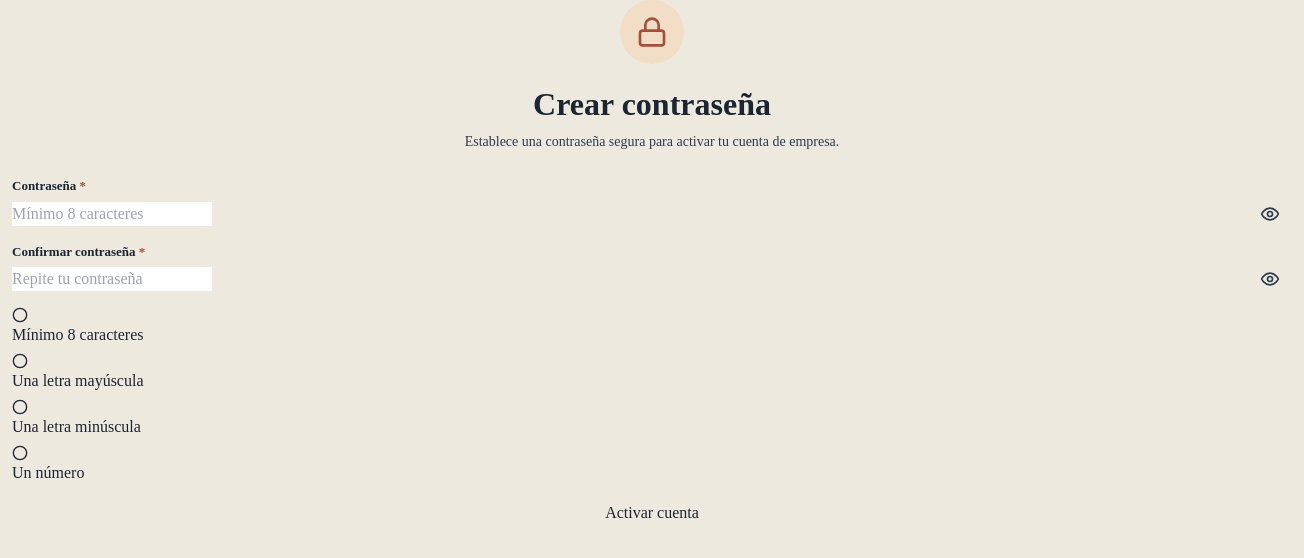
Test: CreatePasswordForm › no envía si las contraseñas no coinciden
The image size is (1304, 558).
Type "Abc12345" into the password field labelled "Contraseña *" at (112, 214), box [12, 202, 212, 226]
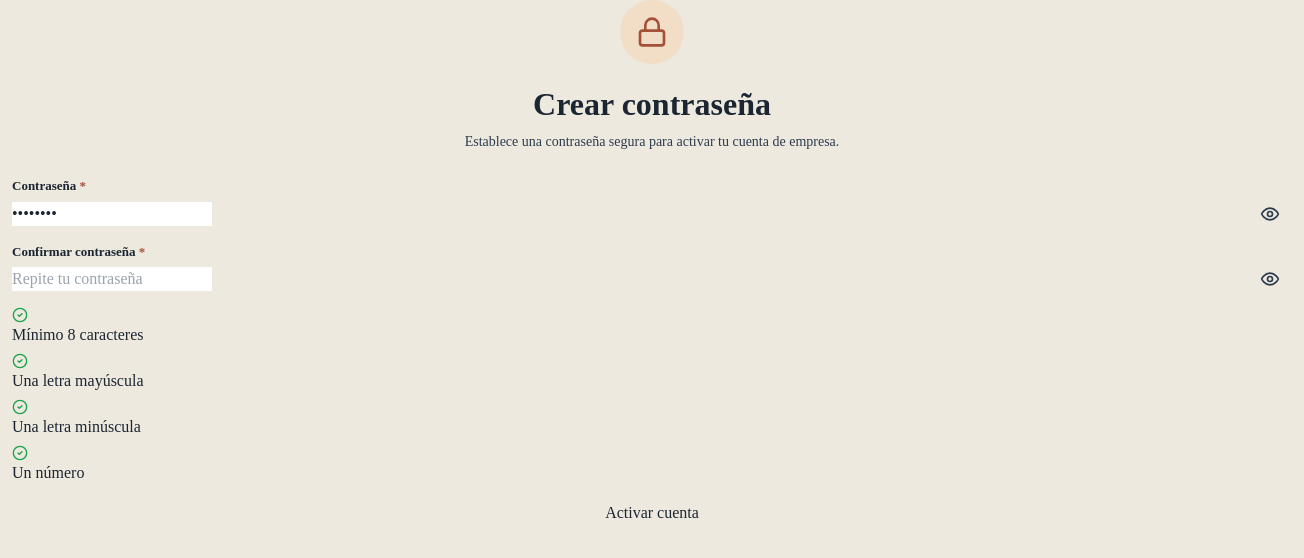
Type "Abc99999" into the password field labelled "Confirmar contraseña *" at (112, 279), box [12, 267, 212, 291]
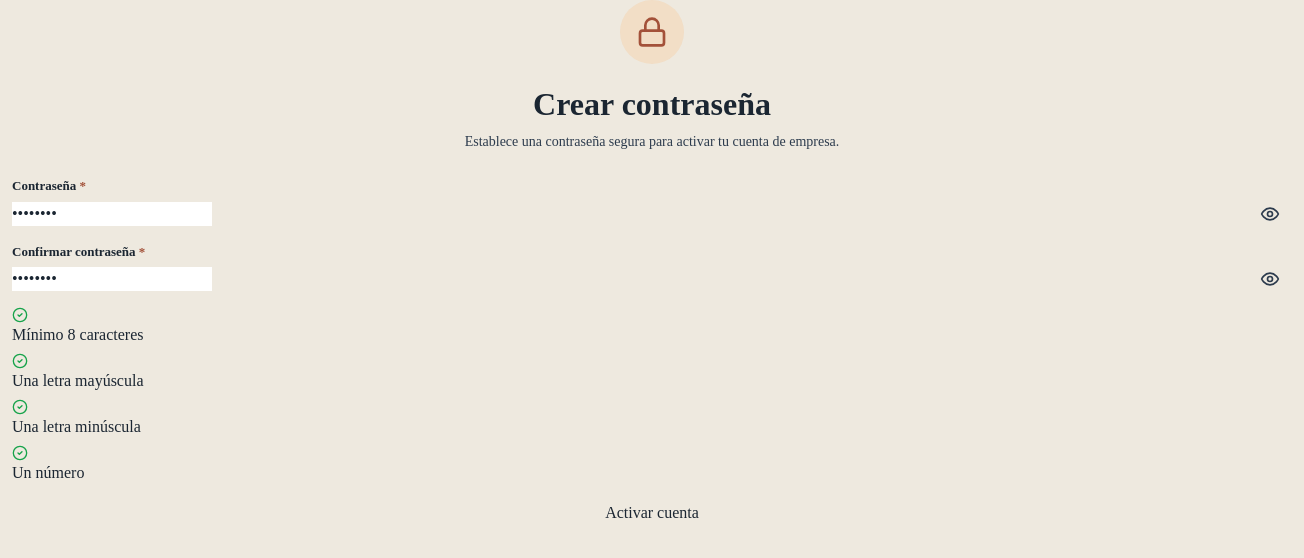
Click the button "Activar cuenta" at (652, 513), box [12, 501, 1292, 525]
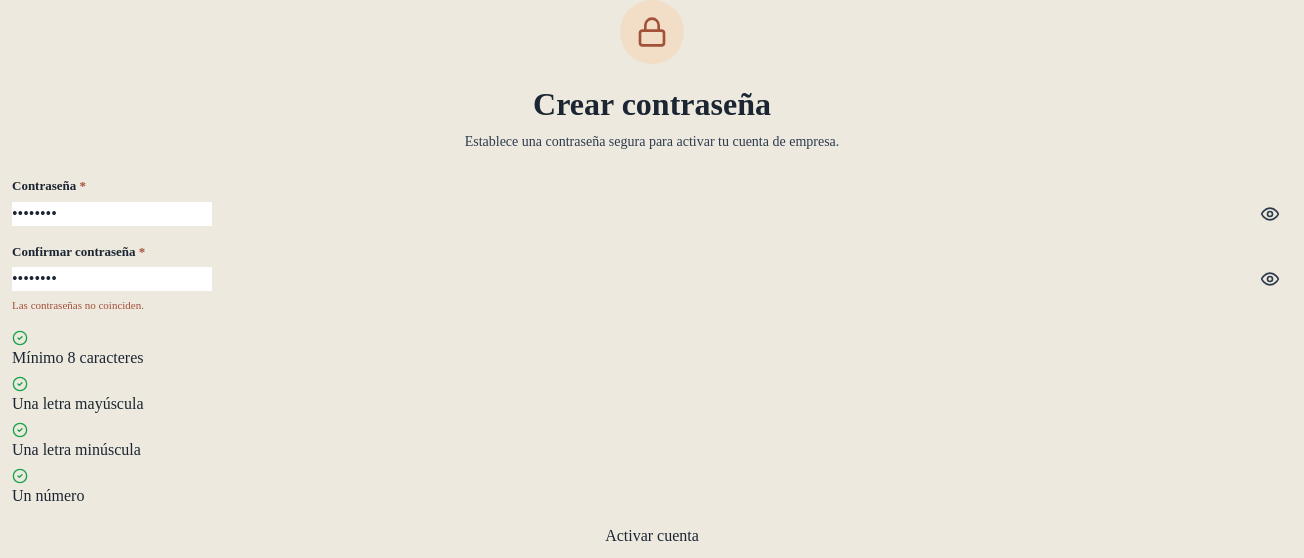
Expected: the text "Las contraseñas no coinciden." is shown, [12, 299, 144, 311]
